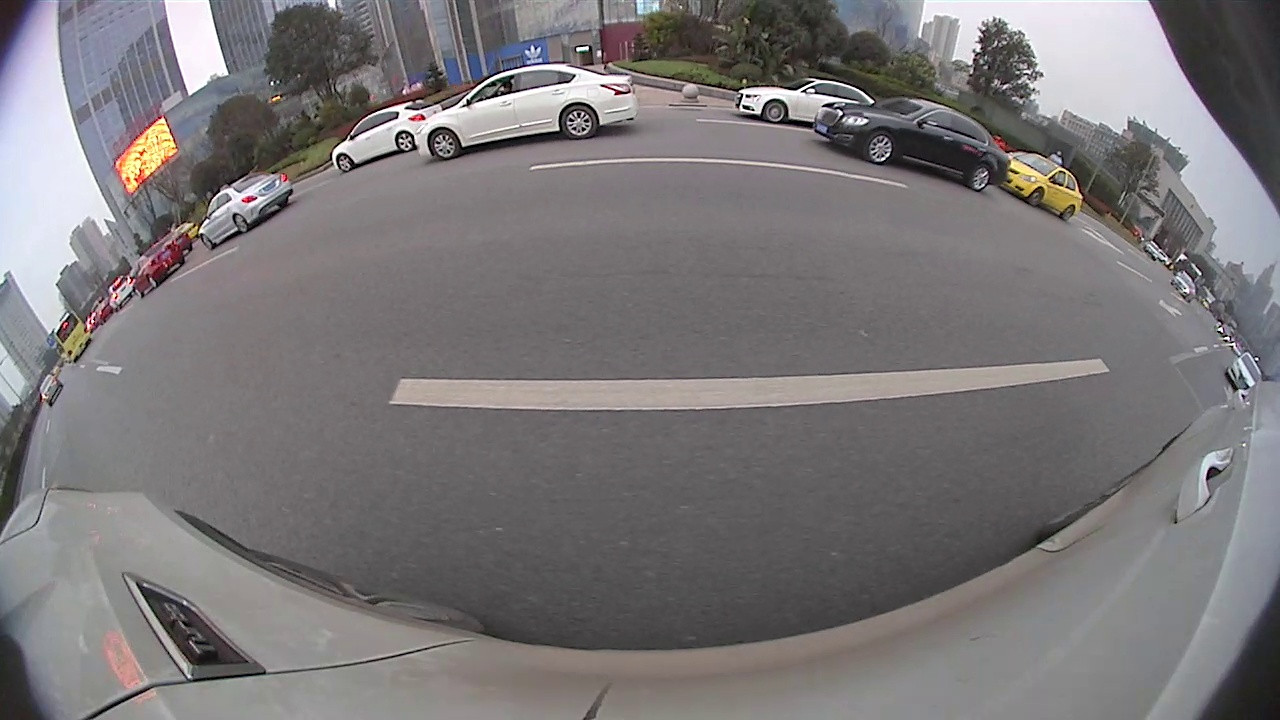bus: (53, 309, 93, 359)
car: (418, 64, 638, 164), (810, 98, 1009, 197), (330, 99, 443, 176), (199, 171, 294, 251), (734, 75, 873, 124), (1000, 149, 1079, 223), (130, 237, 184, 300)
front: (864, 129, 897, 168), (428, 127, 462, 161), (761, 99, 789, 127), (332, 151, 355, 176), (1025, 186, 1044, 207), (198, 233, 216, 251)
rear: (558, 103, 602, 140), (968, 163, 990, 194), (393, 130, 415, 154), (1057, 202, 1079, 223), (232, 213, 251, 233)
